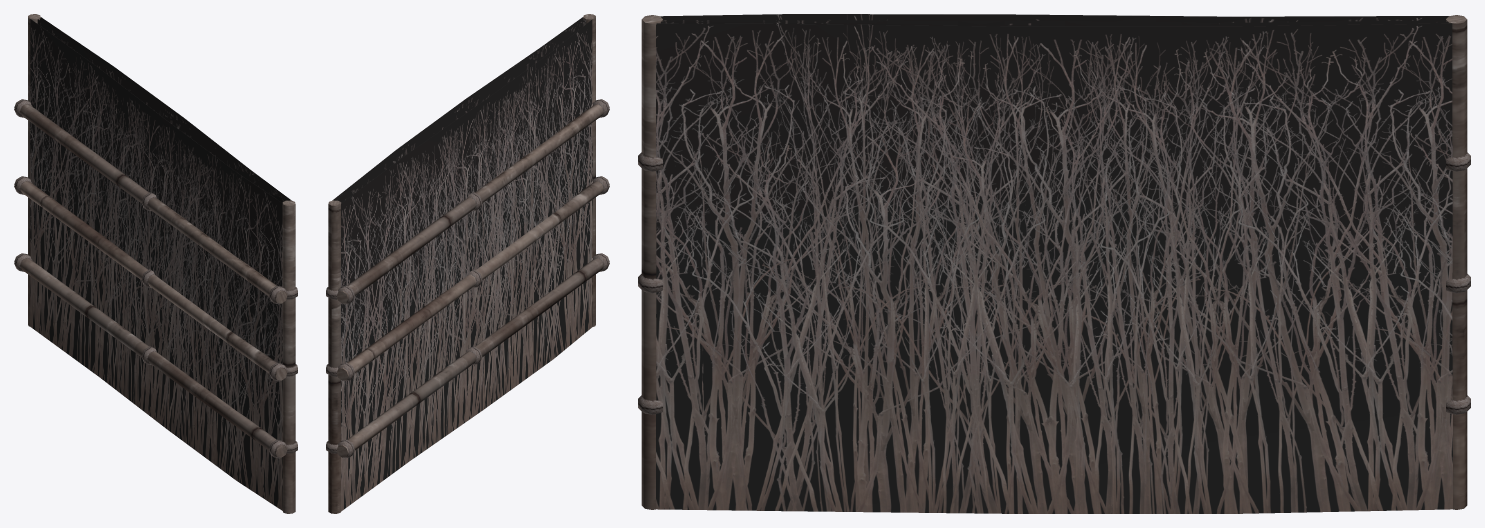
File: SM_Fence01b.fbx
The picture shows the model from 3 angles, left to right: view 1: azimuth 30°, elevation 25°; view 2: azimuth 150°, elevation 25°; view 3: azimuth 270°, elevation 25°; orthographic projection. The views are drawn at different scales.
Visible parts, largest first — view 1: SM_Fence01b; view 2: SM_Fence01b; view 3: SM_Fence01b.
Part boxes in pixels (<box>): SM_Fence01b: <box>14,14,297,513</box>; SM_Fence01b: <box>326,14,609,513</box>; SM_Fence01b: <box>638,14,1470,513</box>.
Size of the model in its own units: 13.1 by 202 by 130.
Materials: 1 (1 with a texture image).
